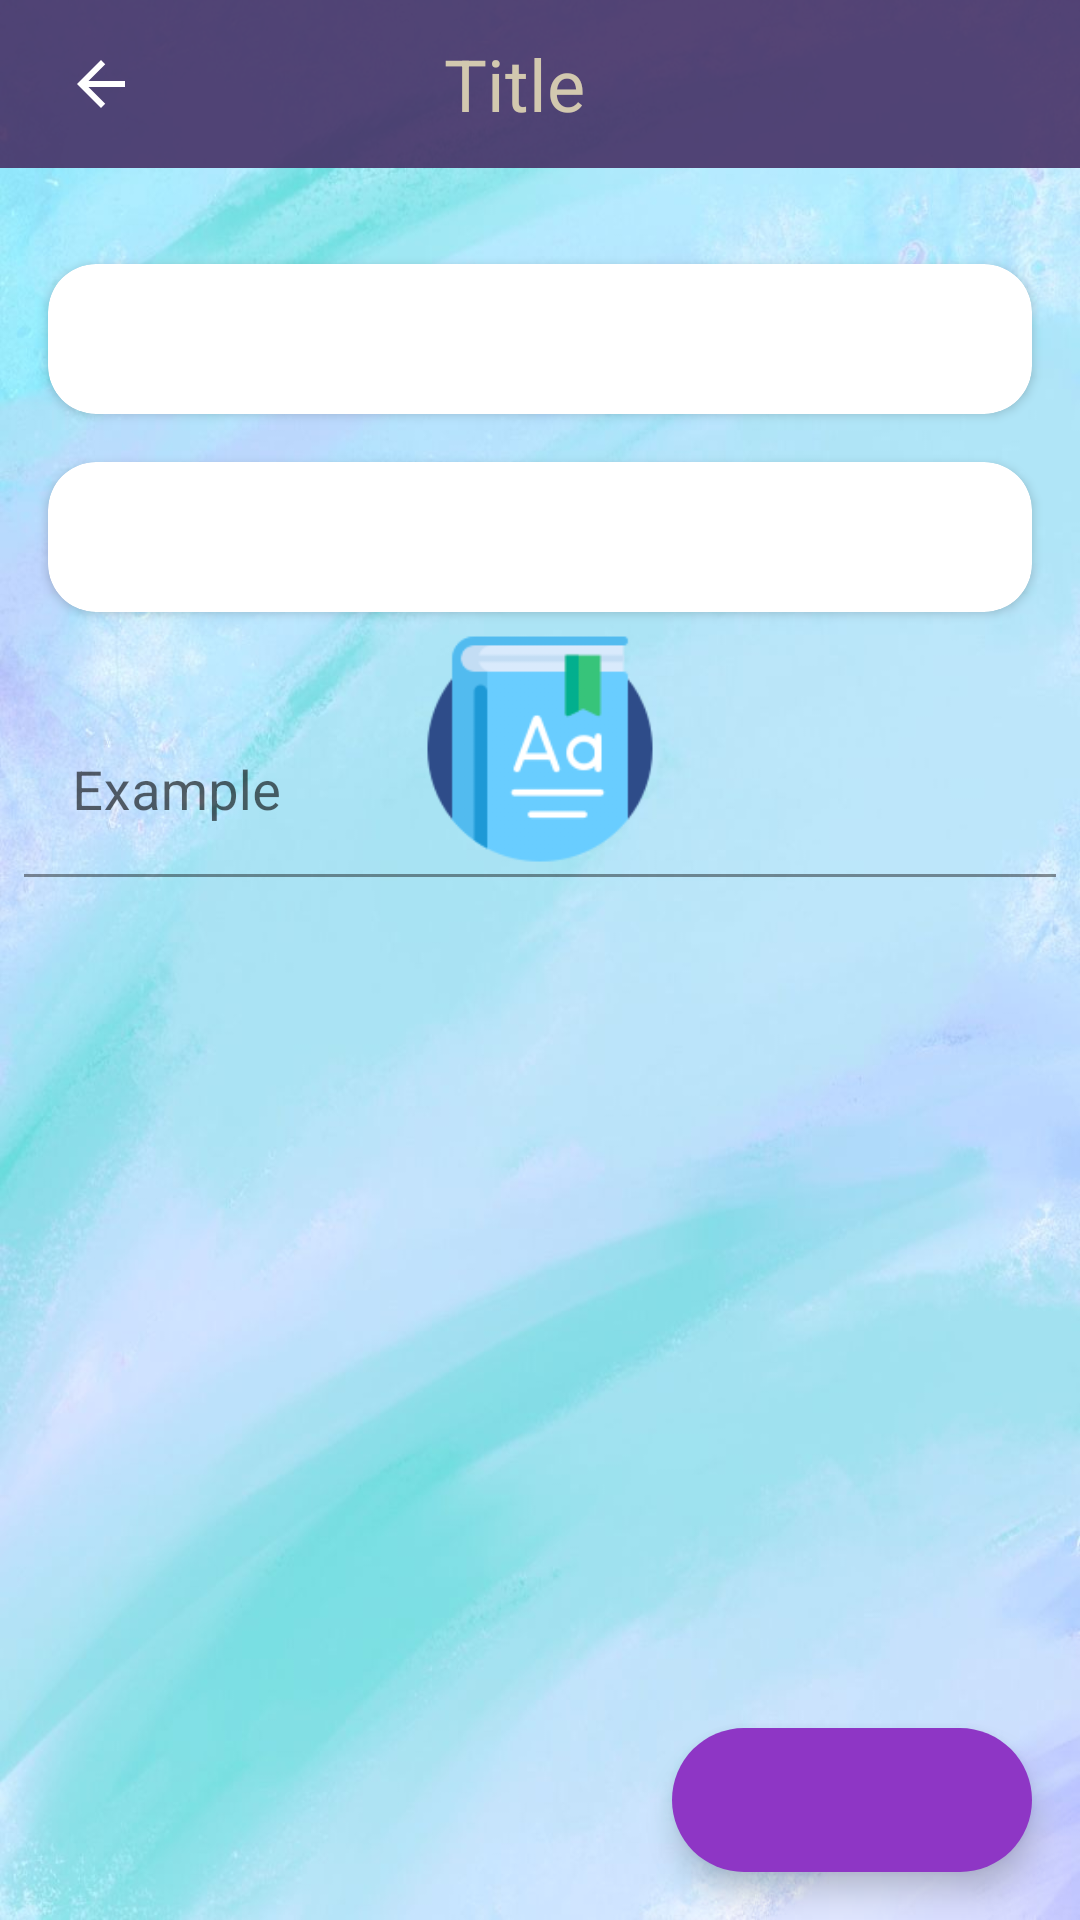

Screen size 1080px x 1920px. Icon name, then its box in pixels as (x1, y1, x2, y2):
day night back: (77, 60, 125, 108)
